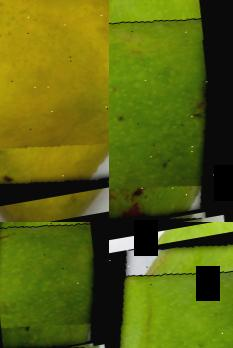PartiallyRipe: (0, 0, 109, 202)
Unripe: (109, 0, 233, 222), (109, 230, 233, 348), (0, 222, 109, 348)
